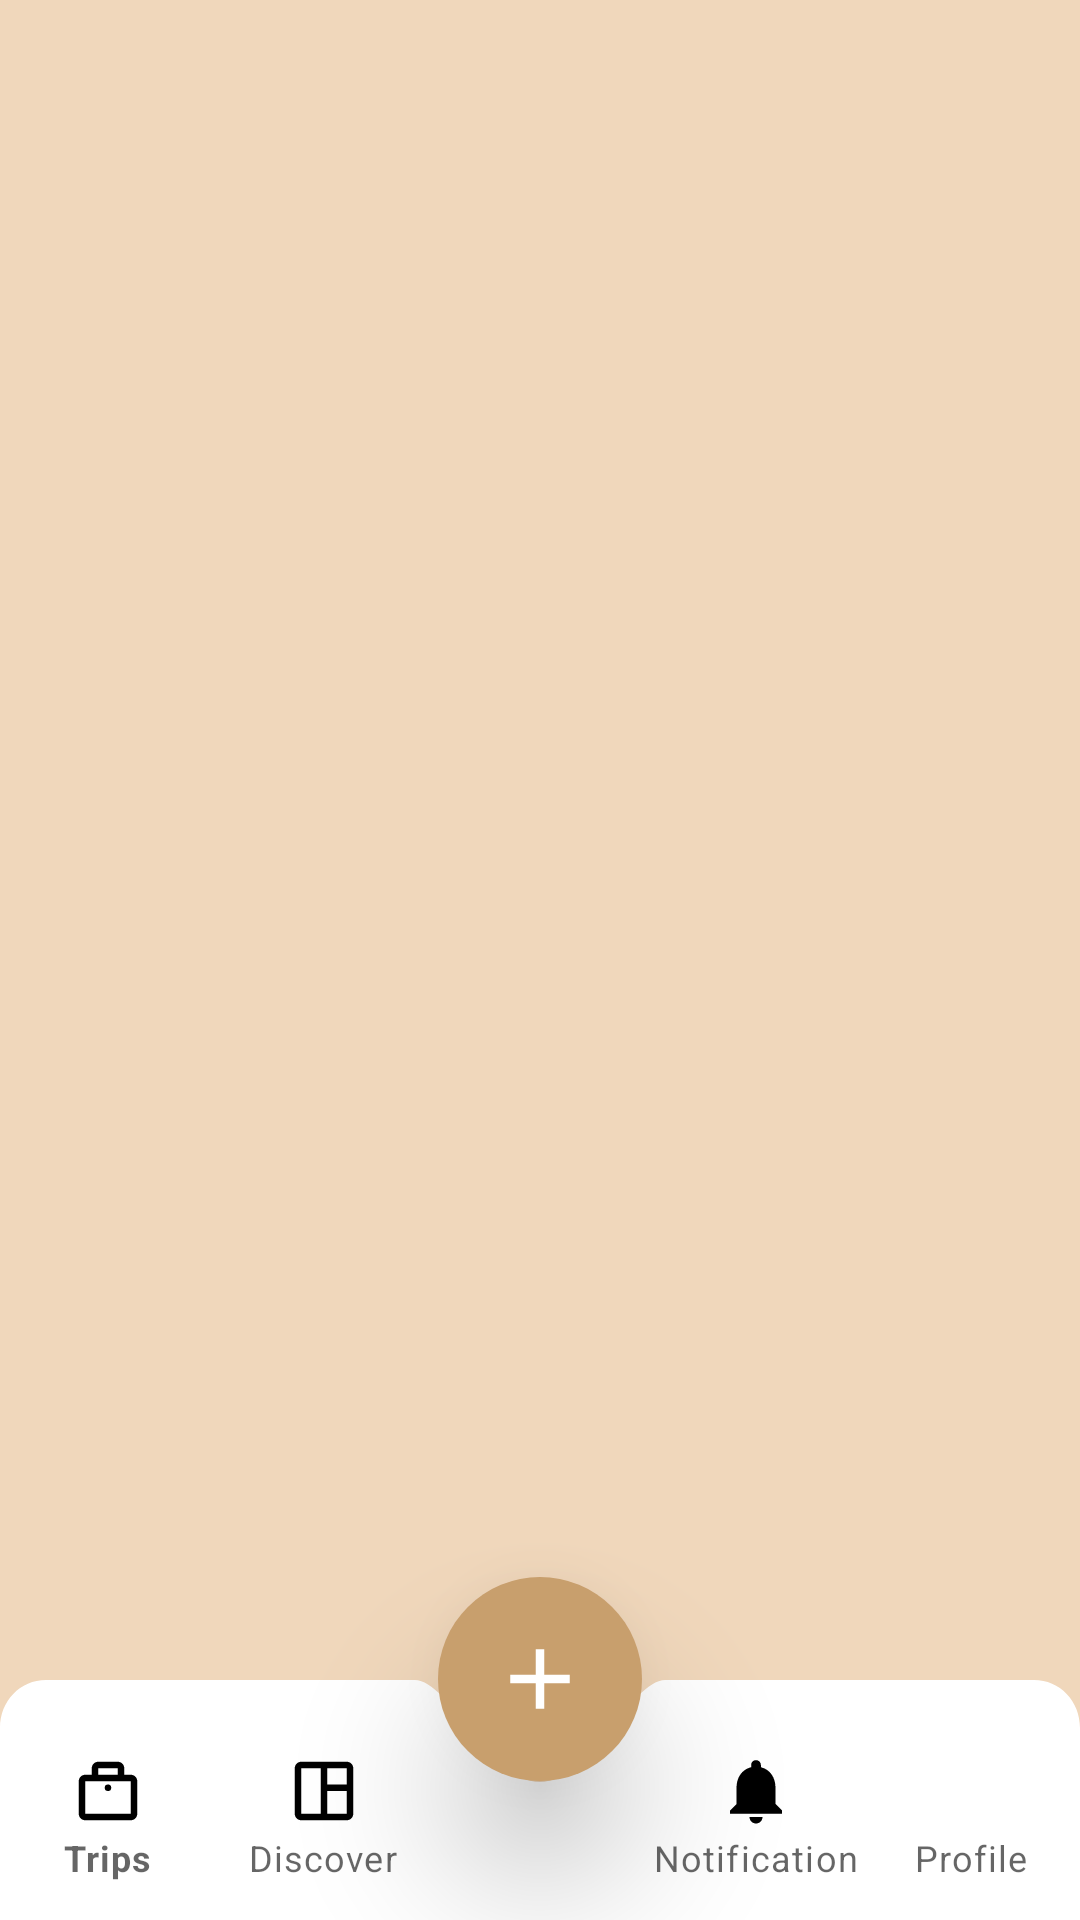

Point at icon controls on the screen. Image size 1080x1920, points as point (x, y).
add: point (540, 1679)
